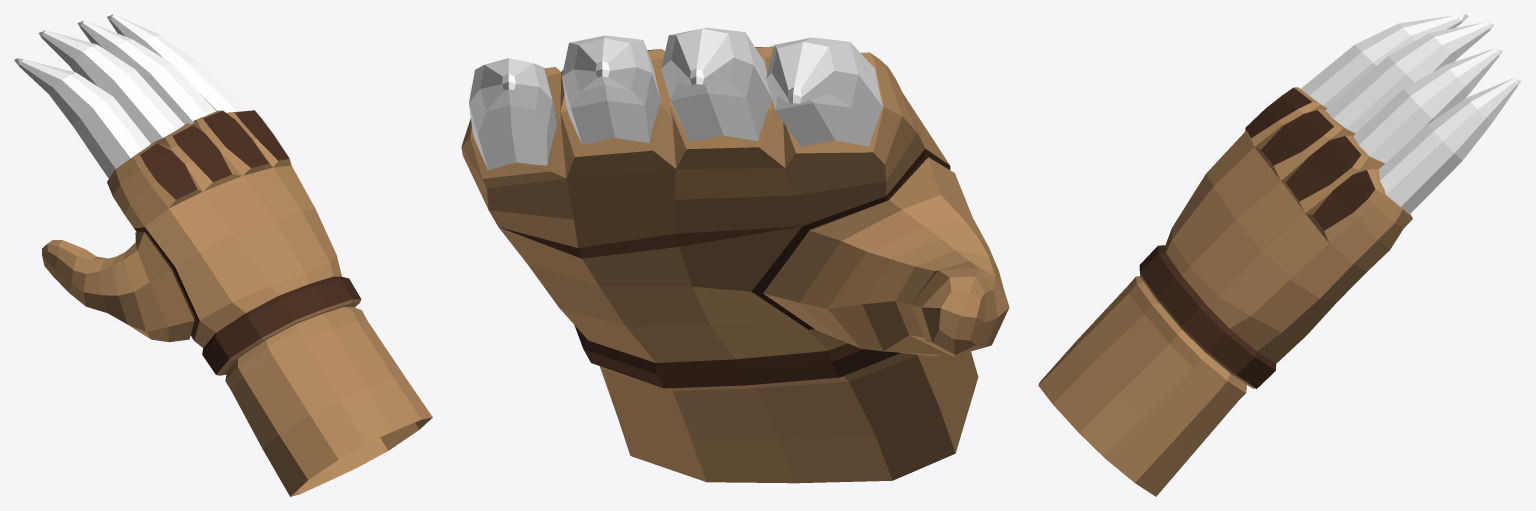
Rendered from Mole_Hand_01.fbx.
3 views of the same model, side by side, from view 1: azimuth 30°, elevation 25°; view 2: azimuth 150°, elevation 25°; view 3: azimuth 270°, elevation 25° (orthographic). The views are drawn at different scales.
Parts seen in each view (by area): view 1: Hand; view 2: Hand; view 3: Hand.
Boxes of the visible parts, x1,y1,x2,y2 form: Hand: (14, 14, 432, 496); Hand: (461, 27, 1009, 483); Hand: (1038, 14, 1521, 496).
Bounding box in the file's own units: 339 × 415 × 473.
